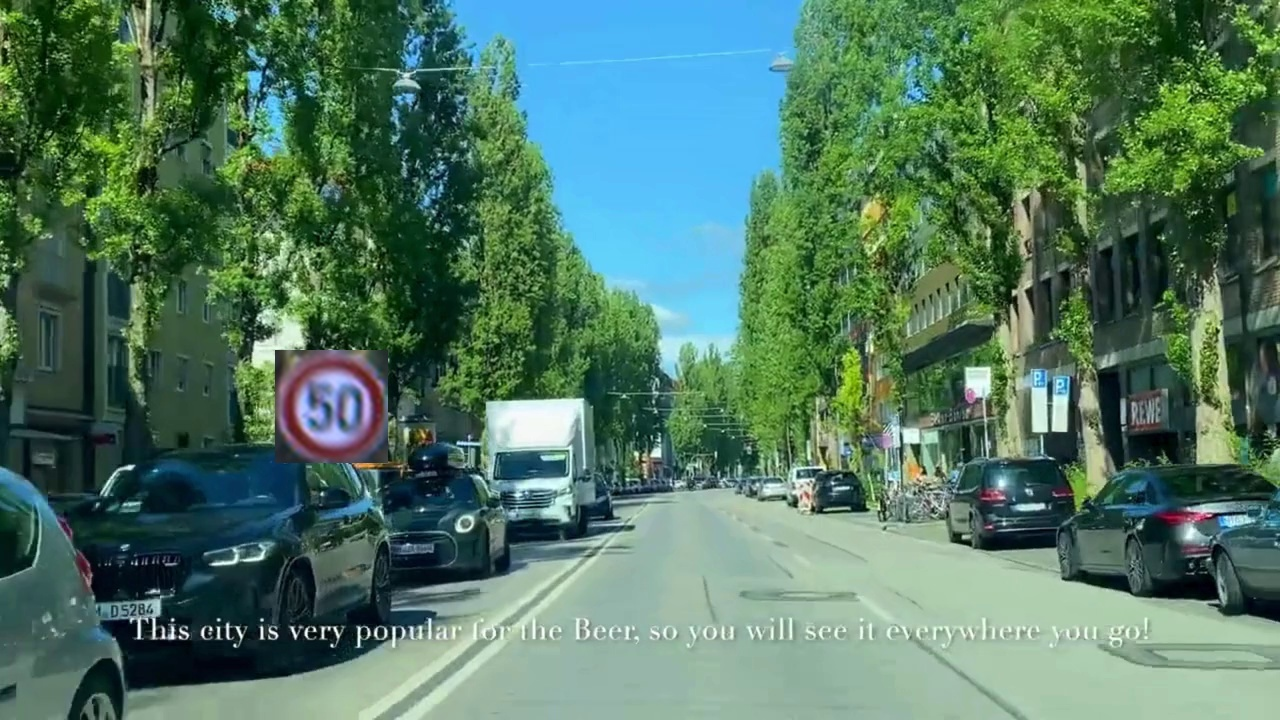Speed 50: (275, 350, 388, 463)
